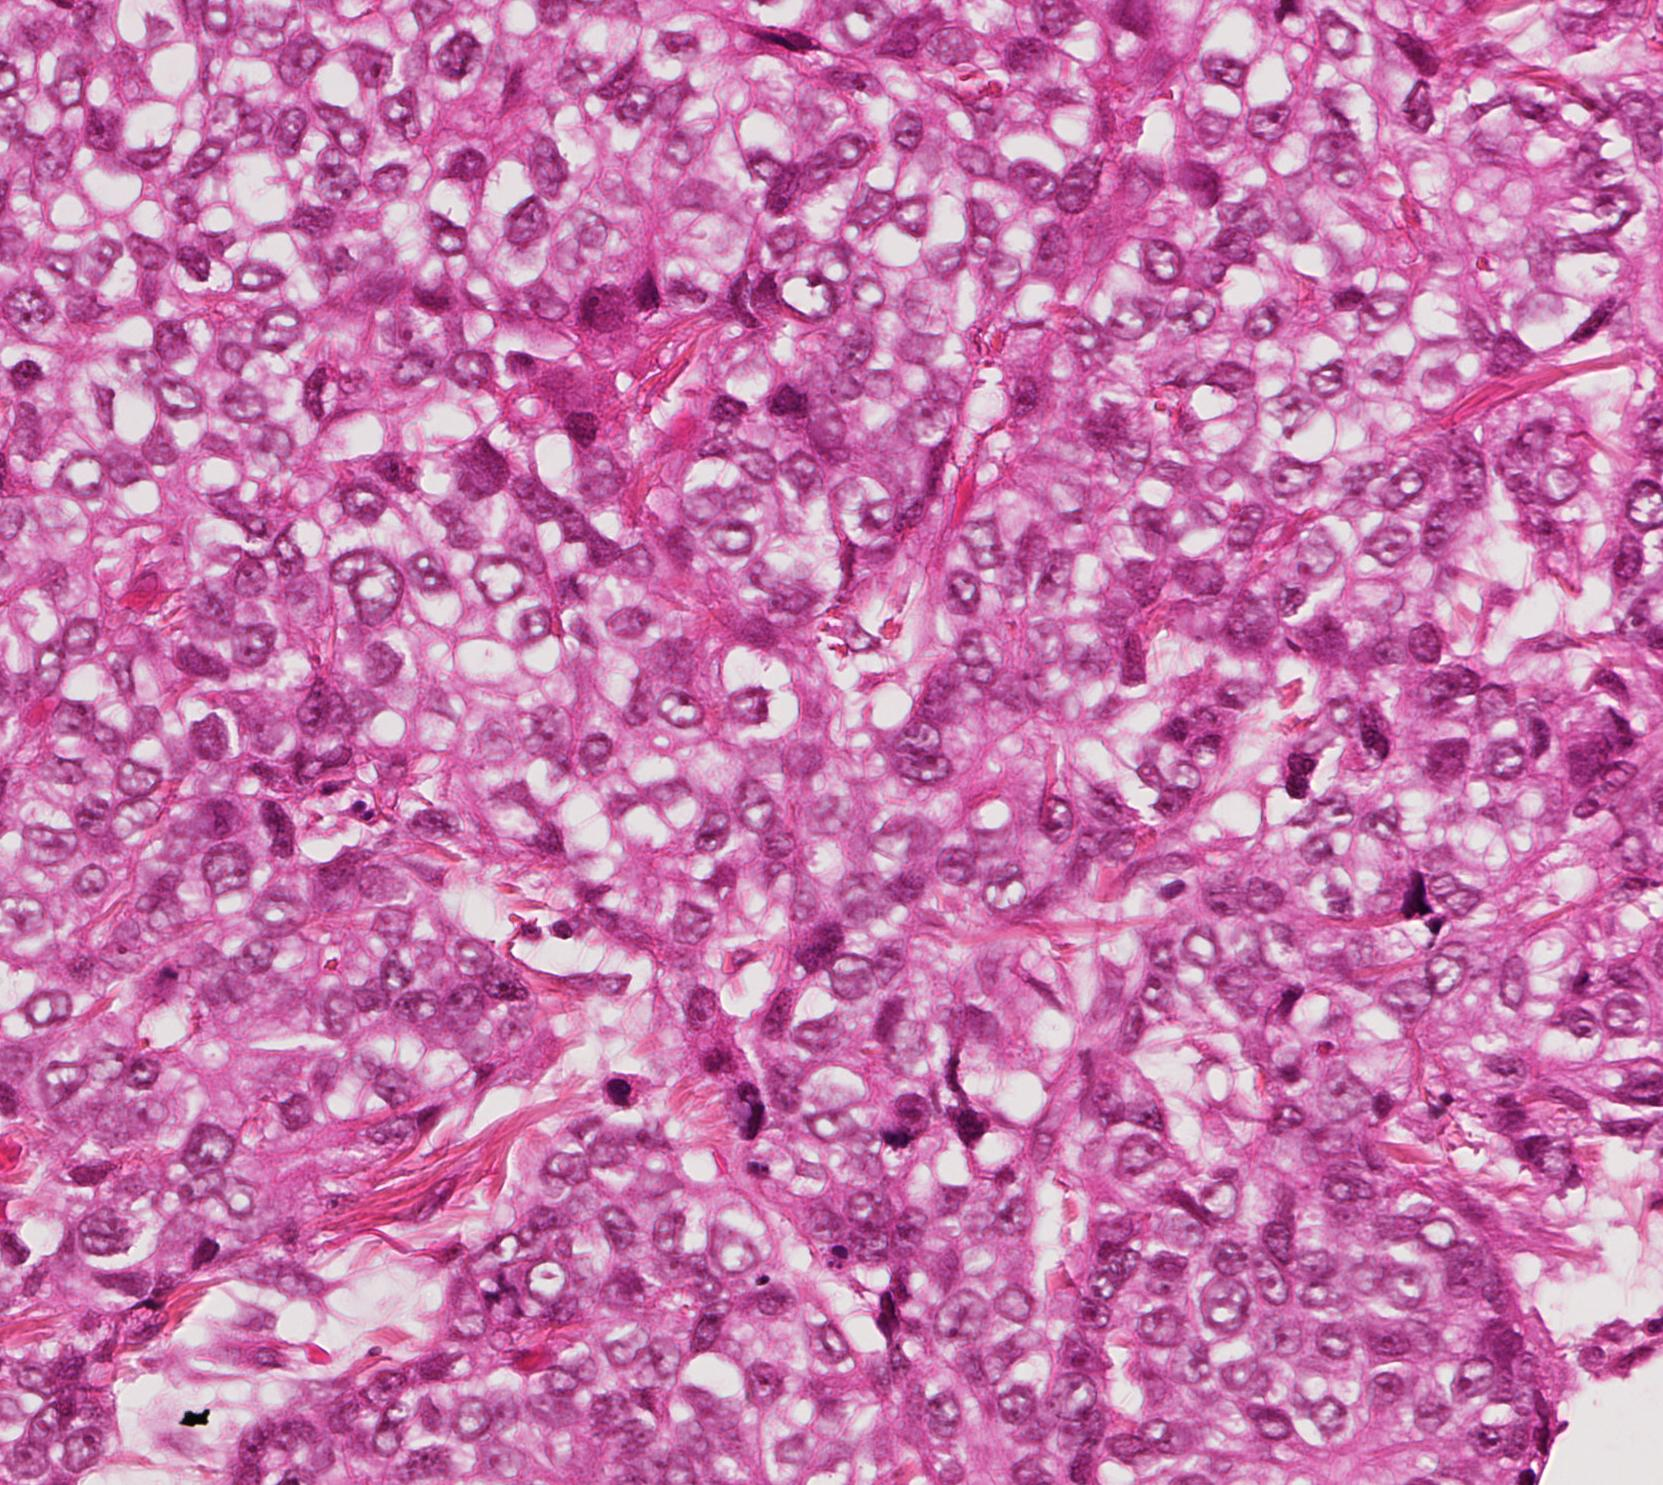mitosis: (866, 1102, 926, 1162)
